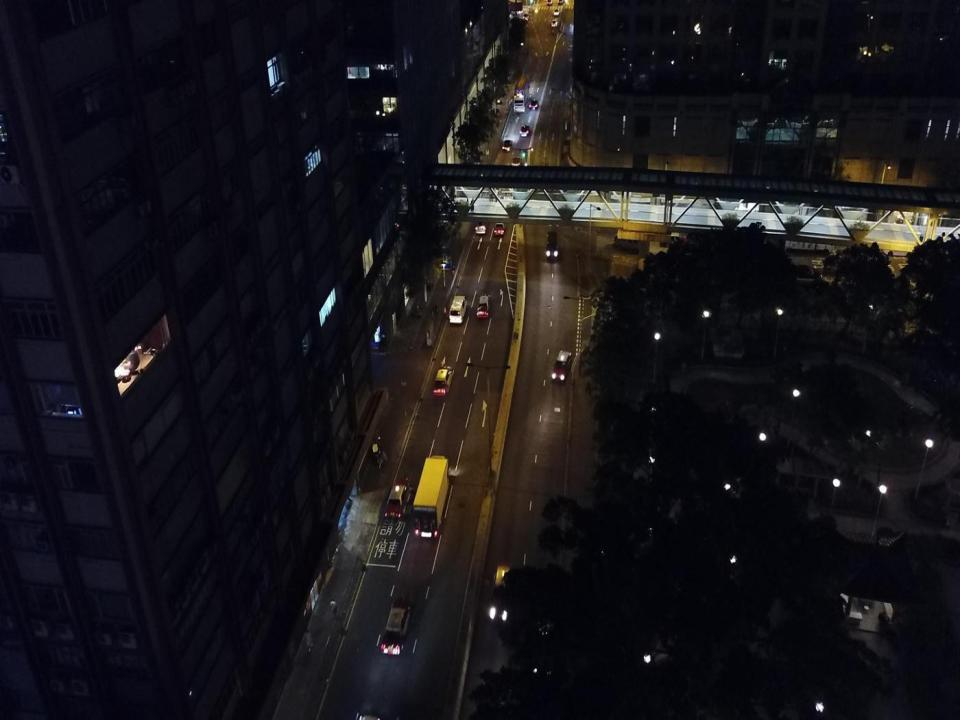bus: (513, 74, 530, 112)
car: (381, 597, 412, 657), (487, 564, 513, 622), (883, 234, 918, 258), (551, 349, 572, 383), (433, 366, 454, 397), (787, 264, 822, 281), (614, 232, 644, 251), (659, 230, 688, 248), (477, 294, 490, 318), (494, 216, 507, 234), (502, 139, 513, 152), (511, 156, 522, 167), (529, 98, 539, 109), (520, 125, 530, 136), (515, 6, 522, 14), (554, 9, 560, 16), (523, 13, 528, 21), (546, 0, 552, 5), (558, 0, 564, 5)
truck: (784, 227, 834, 253)
van: (449, 295, 467, 324), (475, 210, 491, 234), (546, 231, 558, 260), (551, 18, 558, 26)
